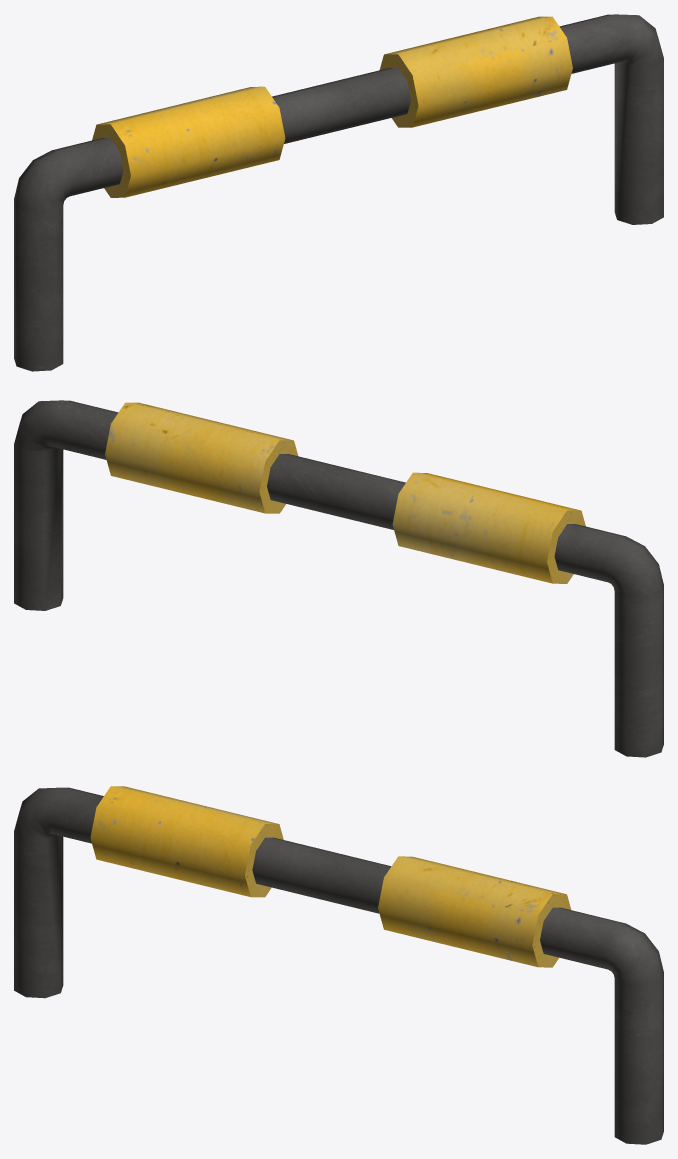
Rendered from pipes01.fbx.
The picture shows the model from 3 angles, top to bottom: view 1: azimuth 30°, elevation 25°; view 2: azimuth 150°, elevation 25°; view 3: azimuth 330°, elevation 25°; orthographic projection.
Parts seen in each view (by area): view 1: polySurface233, polySurface234, polySurface232, polySurface236, polySurface237; view 2: polySurface233, polySurface234, polySurface232, polySurface236, polySurface237; view 3: polySurface233, polySurface234, polySurface232, polySurface235, polySurface238.
Part boxes in pixels (x1,y1,x2,y2): polySurface233: (14, 14, 663, 371); polySurface234: (385, 16, 572, 127); polySurface232: (97, 86, 285, 197); polySurface236: (92, 124, 130, 197); polySurface237: (379, 54, 418, 127); polySurface233: (14, 400, 663, 757); polySurface234: (105, 402, 292, 513); polySurface232: (392, 472, 580, 583); polySurface236: (547, 510, 585, 583); polySurface237: (259, 440, 298, 513); polySurface233: (14, 787, 663, 1144); polySurface234: (378, 856, 565, 967); polySurface232: (90, 786, 277, 896); polySurface235: (245, 824, 283, 897); polySurface238: (532, 894, 571, 967).
Bounding box in the file's own units: 3.25 × 1.06 × 0.3546.
